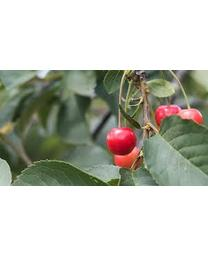cherry: (106, 127, 137, 155)
